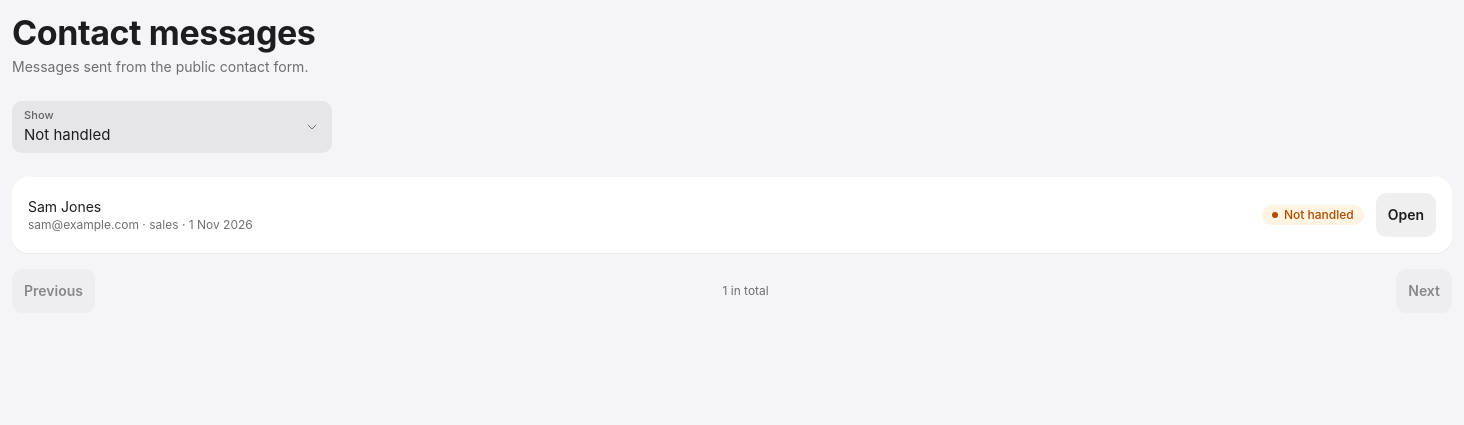
Test case: ContactAdmin delayed update › keeps the new filter's list when a delayed update resolves after a filter change
The image size is (1464, 425).
Click the button "Open". click: (1406, 215)
box: [1376,193,1436,237]
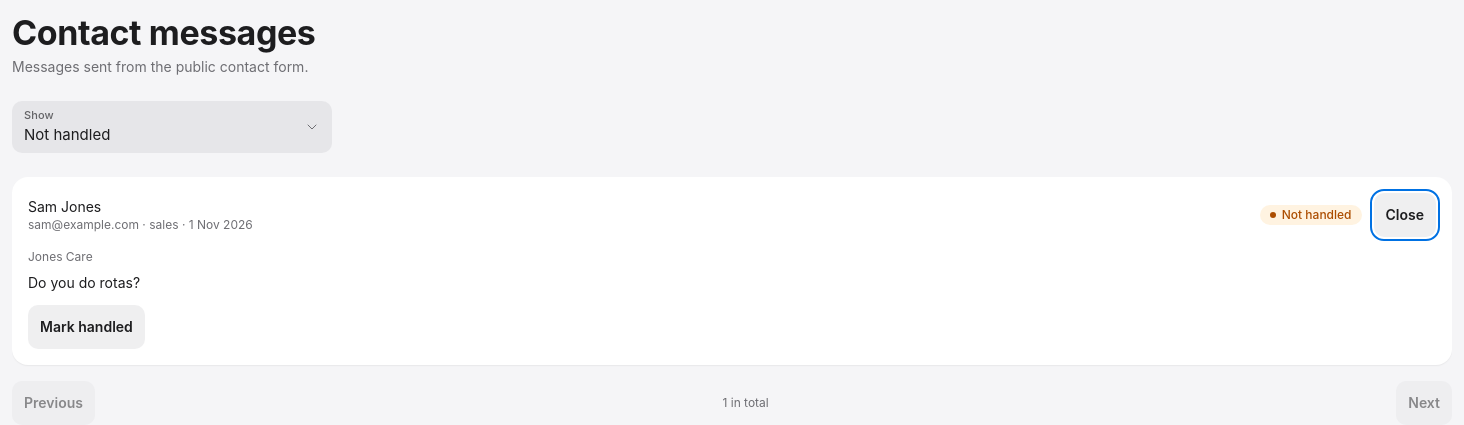
Click the button "Mark handled". click: (86, 327)
box: [28,305,145,349]
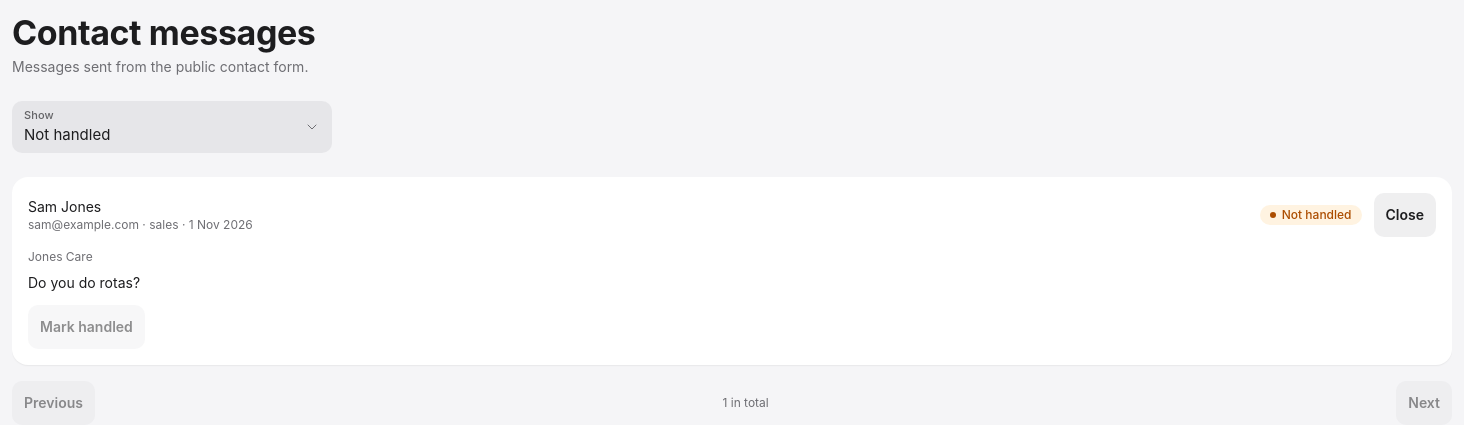
Select "Handled" in the dropdown labelled "Show". click: (172, 127)
box: [12,101,332,153]
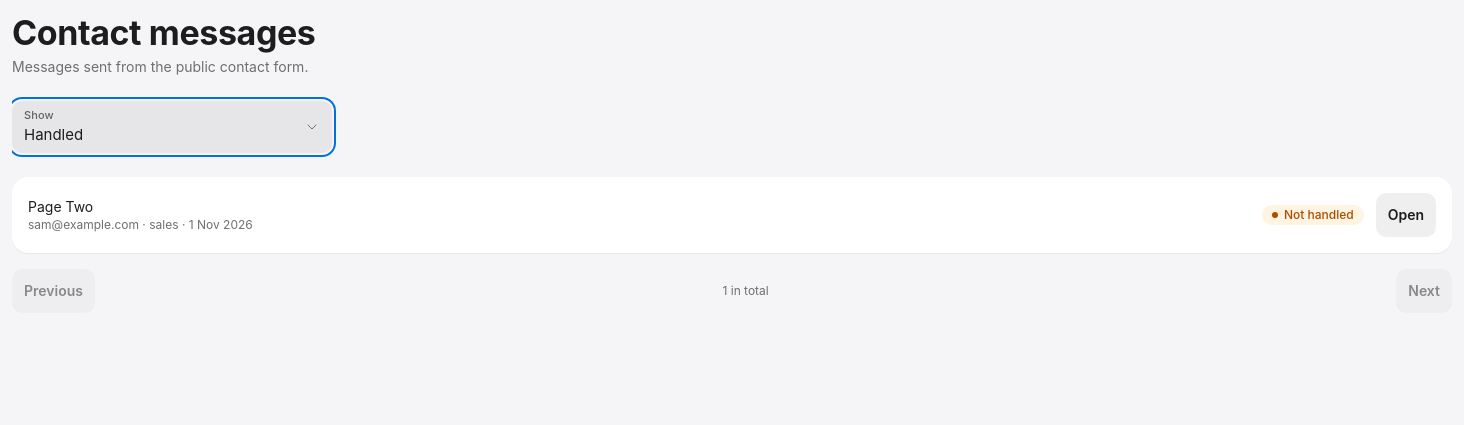
Result: the text "Page Two" is shown at [28,198,93,215]
